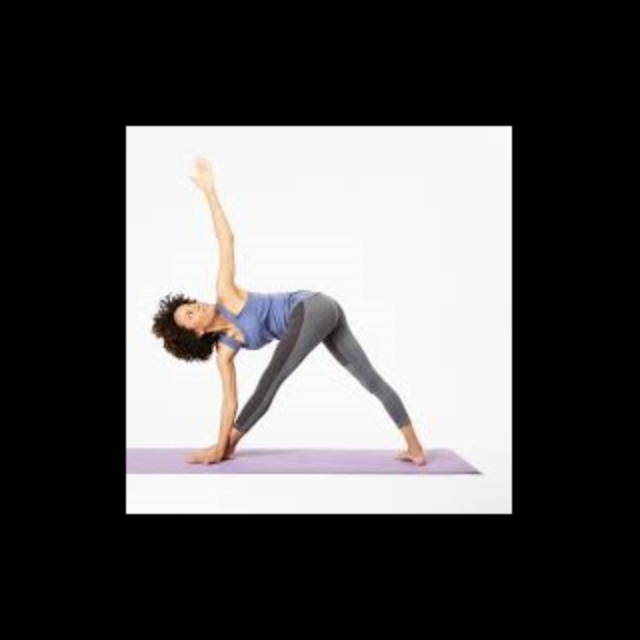Triangle_Pose: (148, 150, 435, 467)
